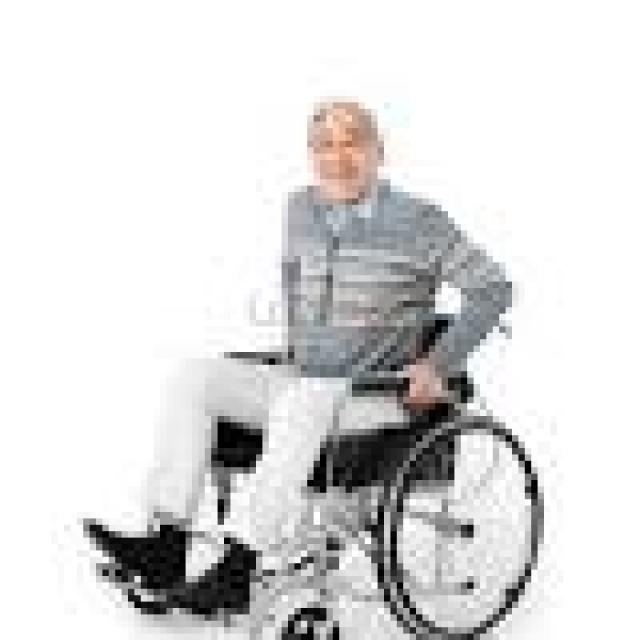wheelchairs: (83, 294, 544, 634)
